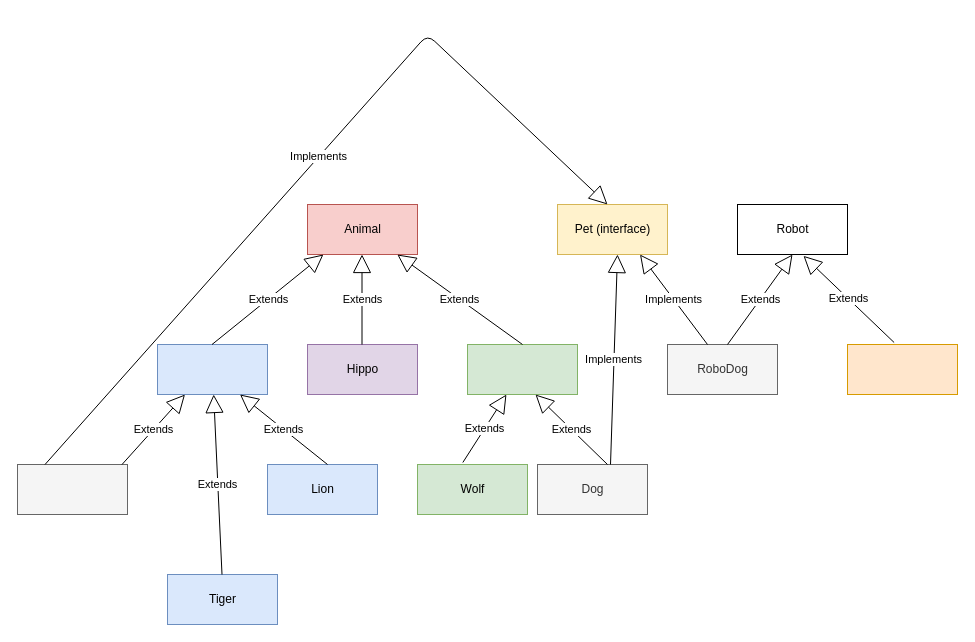
Some shapes in this 975 by 642 pixel diagram are drawn without their labels. The centre of each missing label's shape, as x and y in pixels:
"Agent" belongs at (x=902, y=369).
"Canine" belongs at (x=522, y=369).
"Cat" belongs at (x=72, y=489).
"Feline" belongs at (x=212, y=369).
